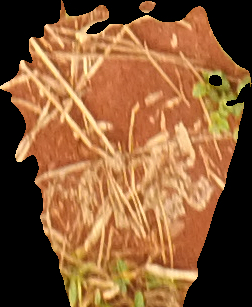soil: (3, 4, 251, 307)
